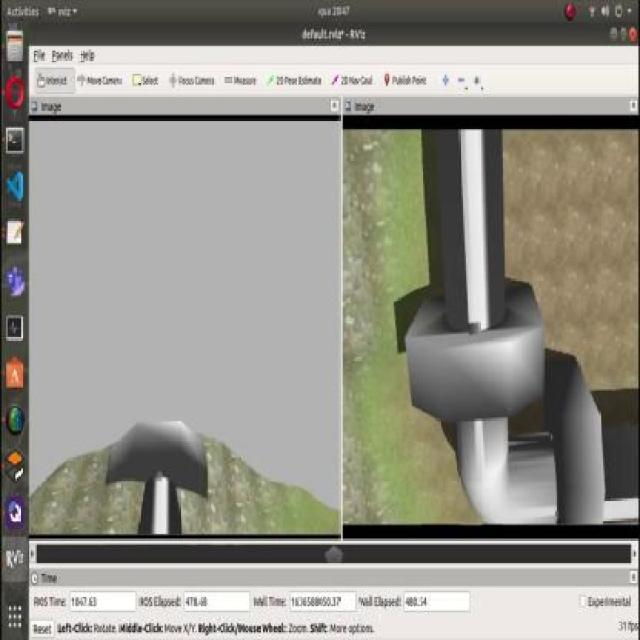gas: (437, 132, 517, 531), (460, 429, 640, 533), (138, 475, 182, 536)
